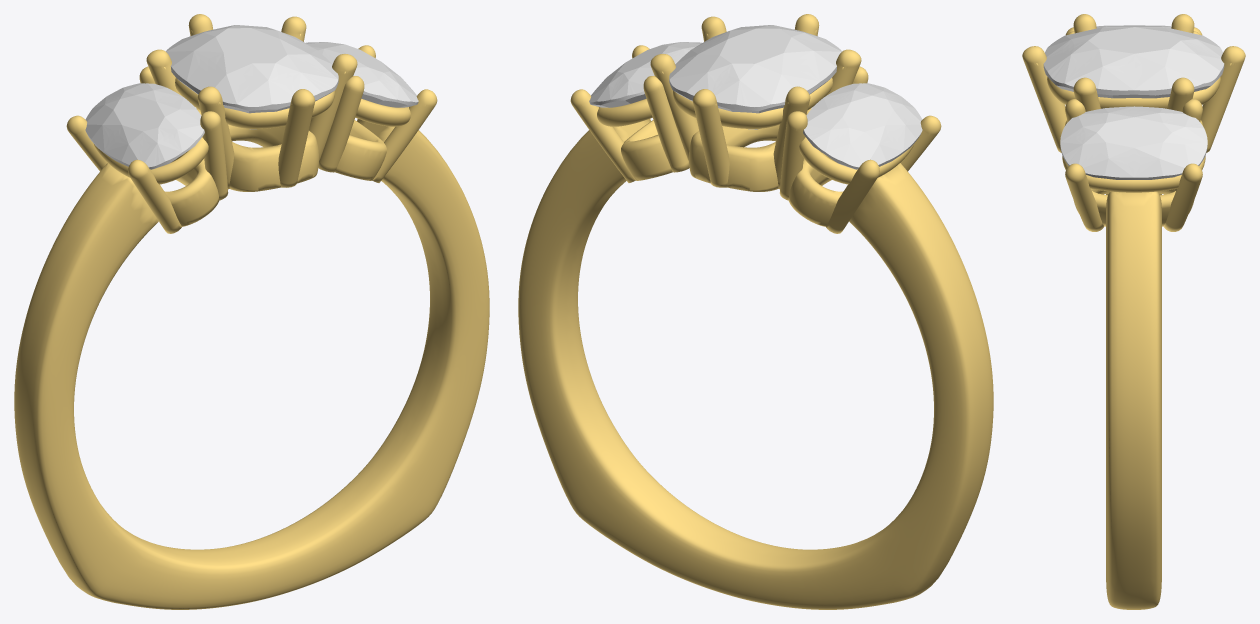
File: diamond-cushion-yellowgold-6prong-europeanshank-3stone.glb
3 views of the same model, side by side, from view 1: azimuth 30°, elevation 25°; view 2: azimuth 150°, elevation 25°; view 3: azimuth 270°, elevation 25° (orthographic). The views are drawn at different scales.
Parts seen in each view (by area): view 1: metal.003, stone.002, side.004, side.005; view 2: metal.003, stone.002, side.004, side.005; view 3: metal.003, stone.002, side.005.
Boxes of the visible parts, x1,y1,x2,y2 form: metal.003: (14, 14, 489, 609); stone.002: (166, 25, 338, 129); side.004: (85, 83, 204, 169); side.005: (306, 42, 418, 107); metal.003: (518, 14, 993, 609); stone.002: (669, 25, 841, 129); side.004: (803, 83, 922, 169); side.005: (589, 42, 701, 107); metal.003: (1022, 14, 1245, 609); stone.002: (1043, 27, 1224, 98); side.005: (1060, 106, 1207, 179).
Size of the model in its own units: 20.11 by 23.04 by 8.8.
